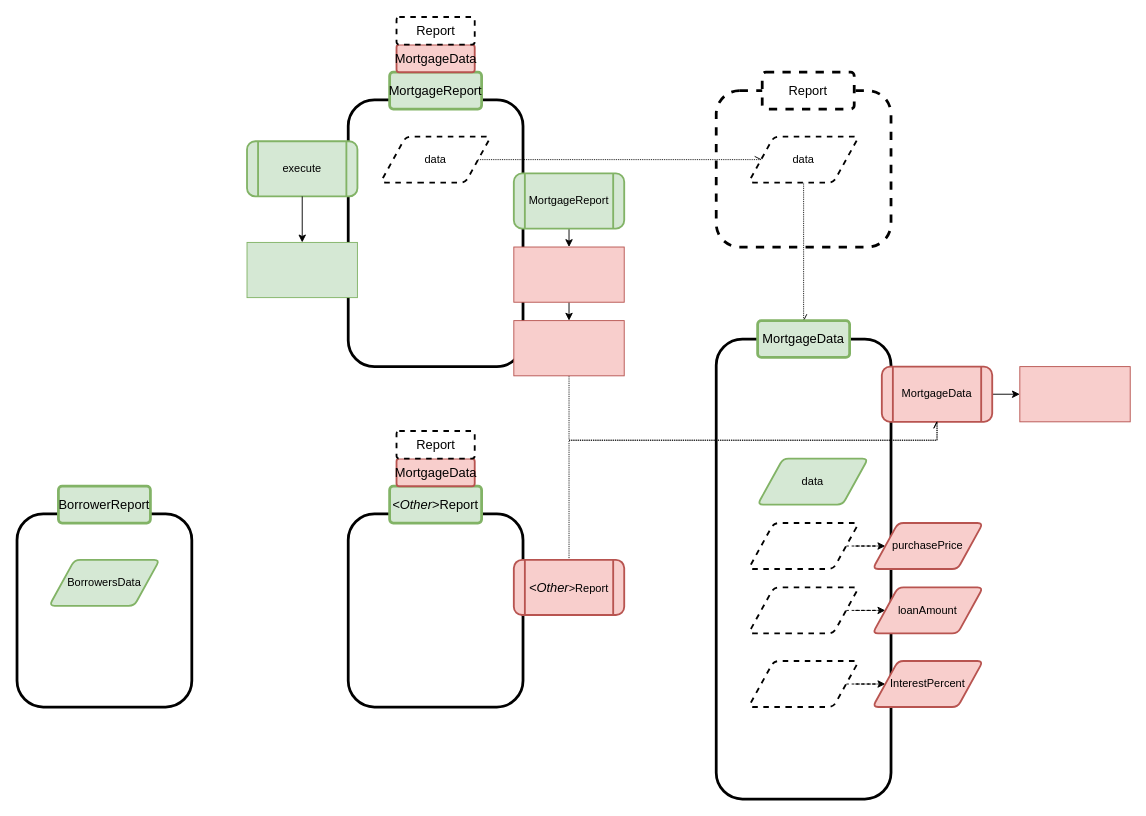
This 1146x816 diagram has some shape labels left out. Each missing label, with the centre of its shape:
"amount" belongs at point 803,610.
"construct MortgageData" belongs at point 568,348.
"copy constructor" belongs at point 1074,394.
"display information from MortgageData" belongs at point 301,270.
"interest" belongs at point 803,683.
"purchase" belongs at point 803,545.
"takes ref to MortgageData" belongs at point 568,274.
